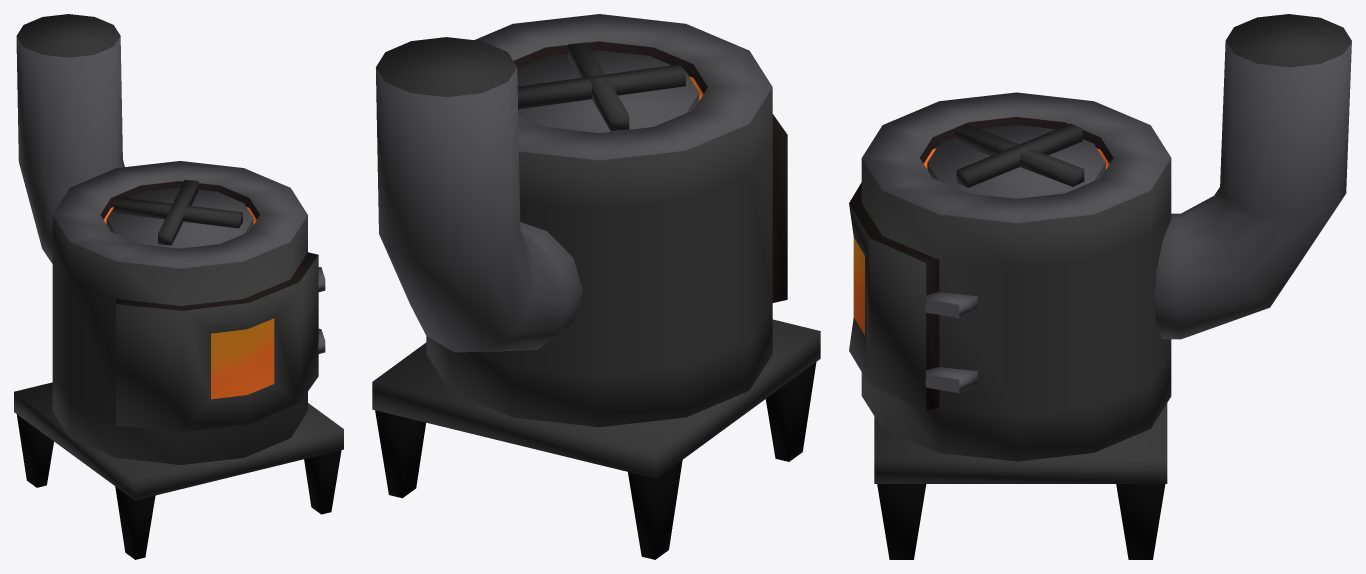
File: Furnace 1.glb
The picture shows the model from 3 angles, left to right: view 1: azimuth 30°, elevation 25°; view 2: azimuth 150°, elevation 25°; view 3: azimuth 270°, elevation 25°; orthographic projection. The views are drawn at different scales.
Visible parts, largest first — view 1: Furnace 1; view 2: Furnace 1; view 3: Furnace 1.
Boxes of the visible parts, left/top/right/bottom form: Furnace 1: left=14, top=14, right=343, bottom=559; Furnace 1: left=372, top=14, right=820, bottom=559; Furnace 1: left=849, top=14, right=1351, bottom=559.
Size of what is drawn, in the model's own units: 1.03 by 1.64 by 1.62.
Materials: 1 (1 with a texture image).
